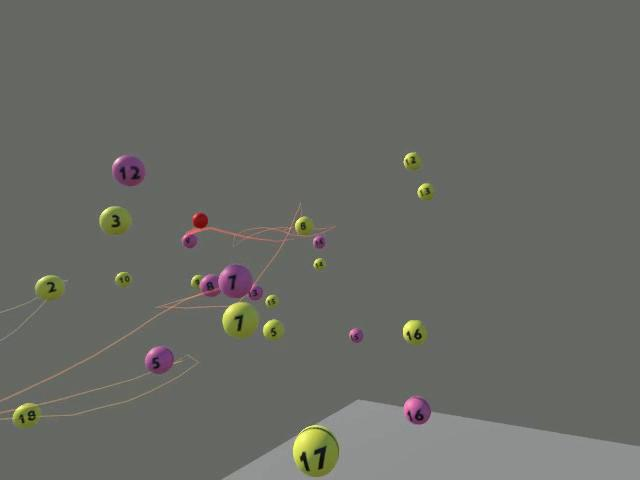ball_02_yellow: (34, 274, 65, 301)
ball_03_yellow: (100, 206, 131, 235)
ball_05_pink: (144, 346, 173, 374)
ball_05_yellow: (262, 319, 284, 340)
ball_07_pink: (219, 264, 252, 298)
ball_07_yellow: (222, 302, 258, 338)
ball_08_pink: (199, 273, 220, 297)
ball_08_yellow: (294, 216, 313, 235)
ball_09_pink: (181, 232, 197, 248)
ball_10_yellow: (114, 271, 131, 287)
ball_12_pink: (112, 154, 145, 186)
ball_12_yellow: (402, 151, 421, 170)
ball_13_pink: (248, 283, 262, 300)
ball_13_yellow: (416, 182, 434, 200)
ball_14_pink: (312, 235, 325, 248)
ball_14_yellow: (313, 257, 326, 270)
ball_15_pink: (348, 327, 363, 343)
ball_15_yellow: (264, 294, 278, 307)
ball_16_pink: (403, 395, 430, 424)
ball_16_yellow: (402, 319, 427, 345)
ball_17_yellow: (292, 424, 339, 476)
ball_18_yellow: (12, 402, 40, 427)
ball_unknown: (190, 273, 203, 288)
user_cursor: (191, 212, 208, 228)
